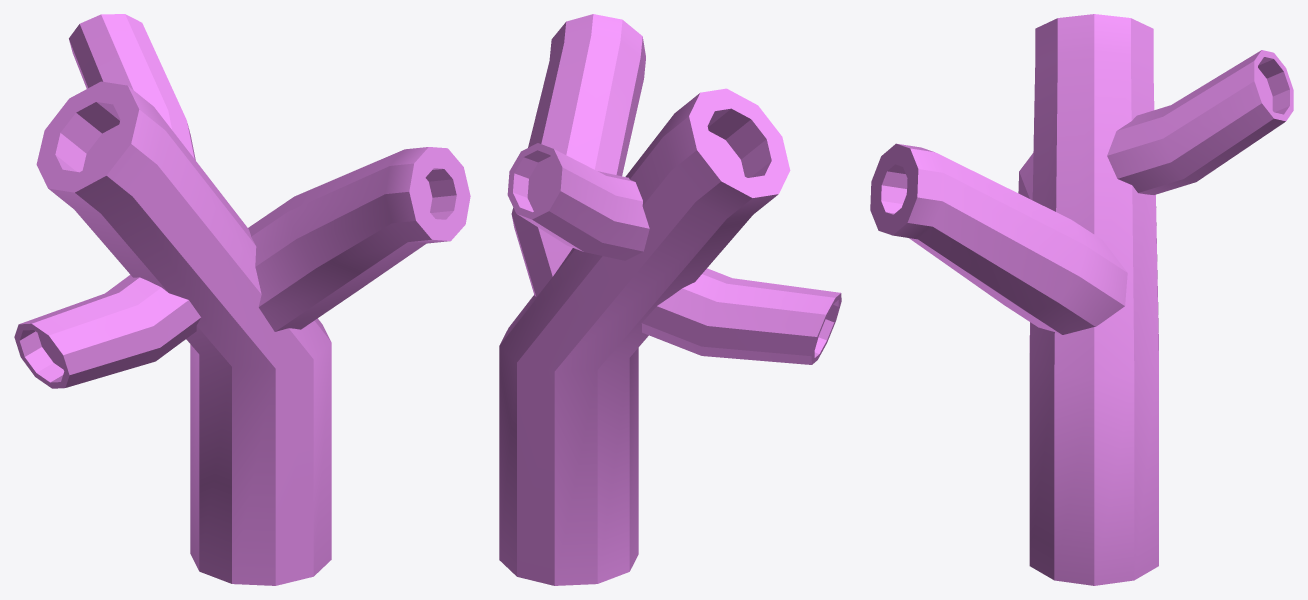
The model's file is Coral pink.fbx.
The picture shows the model from 3 angles, left to right: view 1: azimuth 30°, elevation 25°; view 2: azimuth 150°, elevation 25°; view 3: azimuth 270°, elevation 25°; orthographic projection. The views are drawn at different scales.
Visible parts, largest first — view 1: Coral_pink; view 2: Coral_pink; view 3: Coral_pink.
Boxes of the visible parts, x1,y1,x2,y2 form: Coral_pink: [14, 14, 470, 585]; Coral_pink: [499, 14, 841, 585]; Coral_pink: [870, 14, 1293, 585].
Bounding box in the file's own units: 33.86 × 44.8 × 35.72.
